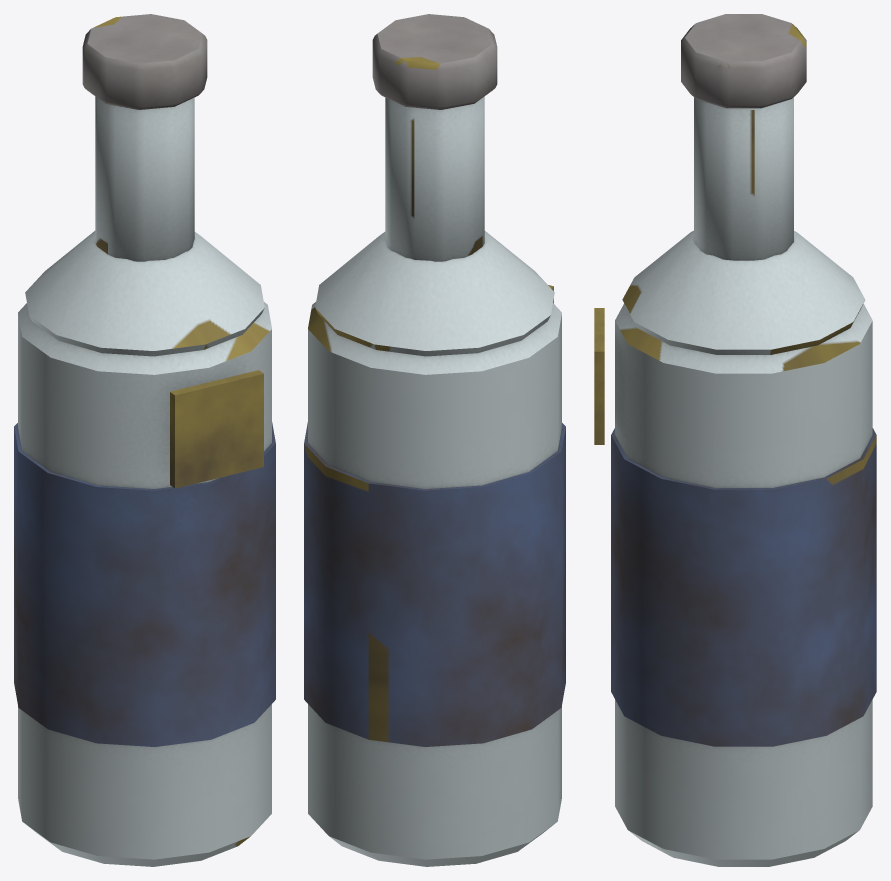
Rendered from g67_pz_bottle_2.glb.
The picture shows the model from 3 angles, left to right: view 1: azimuth 30°, elevation 25°; view 2: azimuth 150°, elevation 25°; view 3: azimuth 270°, elevation 25°; orthographic projection.
Visible parts, largest first — view 1: g67_pz_bottle_2, sticker; view 2: g67_pz_bottle_2; view 3: g67_pz_bottle_2, sticker.
Part boxes in pixels (x1=…): g67_pz_bottle_2: x1=14, y1=14, x2=275, y2=866; sticker: x1=170, y1=370, x2=263, y2=488; g67_pz_bottle_2: x1=304, y1=14, x2=565, y2=866; g67_pz_bottle_2: x1=611, y1=14, x2=876, y2=866; sticker: x1=594, y1=308, x2=604, y2=444.
Bounding box in the file's own units: 0.1004 × 0.335 × 0.1095.
1 material, 1 textured.
